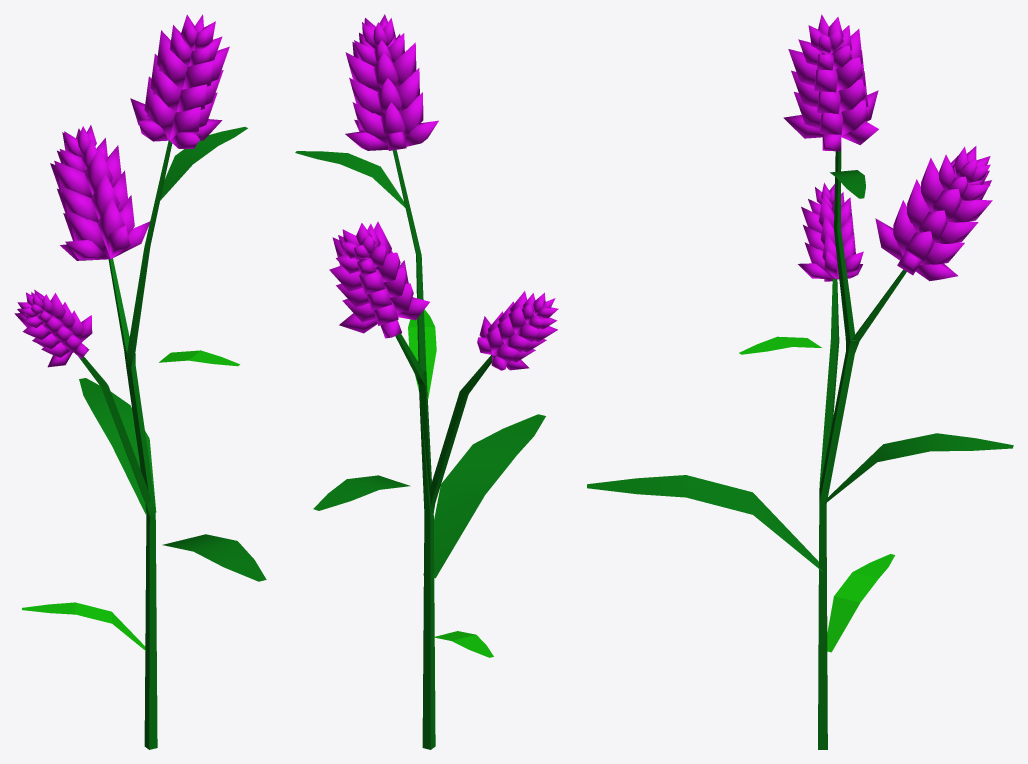
The model's file is flower2.glb.
3 renders of one model, left to right at view 1: azimuth 30°, elevation 25°; view 2: azimuth 150°, elevation 25°; view 3: azimuth 270°, elevation 25°, orthographic. The views are drawn at different scales.
Visible parts, largest first — view 1: Cube.001_7, Cube.001_0, Cube.001_1; view 2: Cube.001_7, Cube.001_0, Cube.001_1; view 3: Cube.001_7, Cube.001_0, Cube.001_1.
Boxes of the visible parts, <box> form: Cube.001_7: <box>14,14,229,367</box>; Cube.001_0: <box>79,127,266,749</box>; Cube.001_1: <box>22,350,239,650</box>; Cube.001_7: <box>329,14,558,370</box>; Cube.001_0: <box>295,150,545,749</box>; Cube.001_1: <box>408,309,493,657</box>; Cube.001_7: <box>783,14,992,281</box>; Cube.001_0: <box>587,151,1013,749</box>; Cube.001_1: <box>739,336,894,652</box>.
Size of the model in its own units: 0.115 by 0.3223 by 0.1654.
